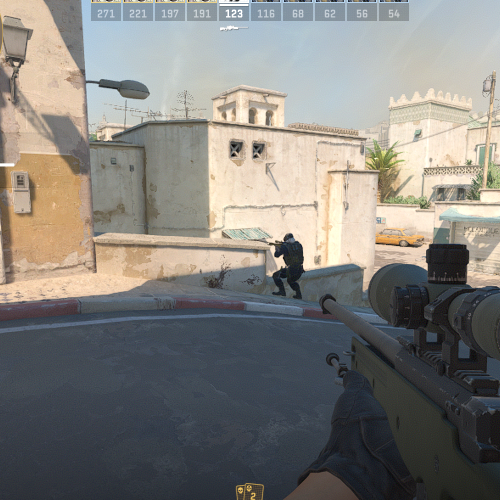ct_body: (271, 233, 305, 299)
ct_head: (284, 233, 295, 244)
